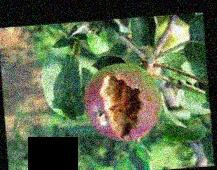rotten apple: (84, 63, 167, 142)
